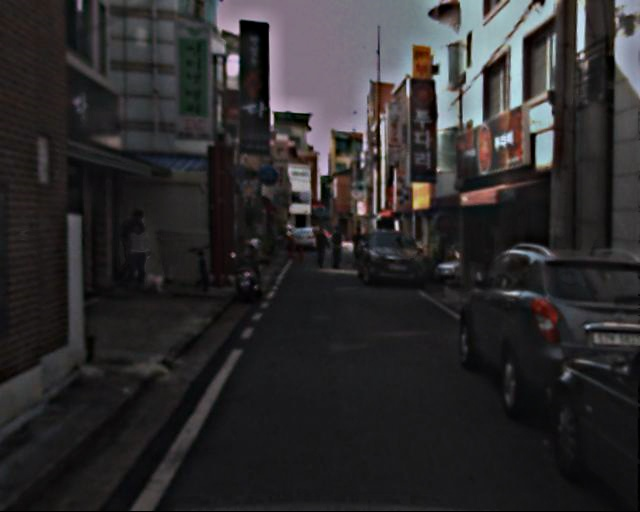person: (122, 220, 152, 294), (313, 225, 331, 270), (331, 228, 348, 270), (353, 228, 369, 268)
